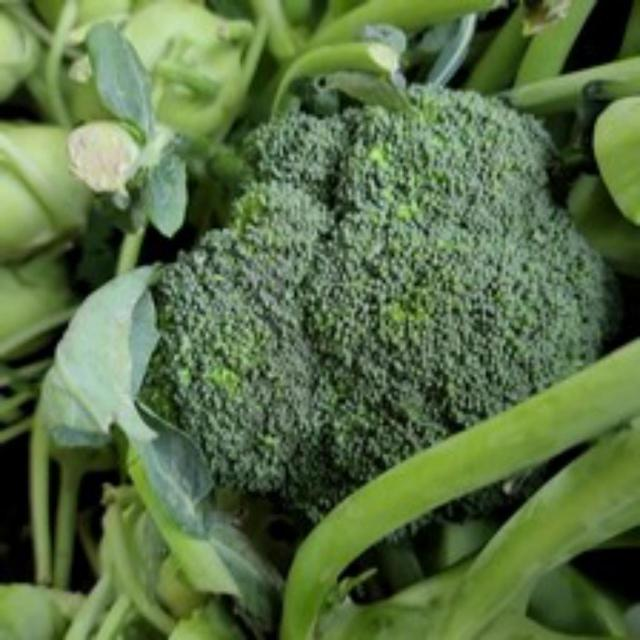broccoli: (152, 77, 608, 522)
